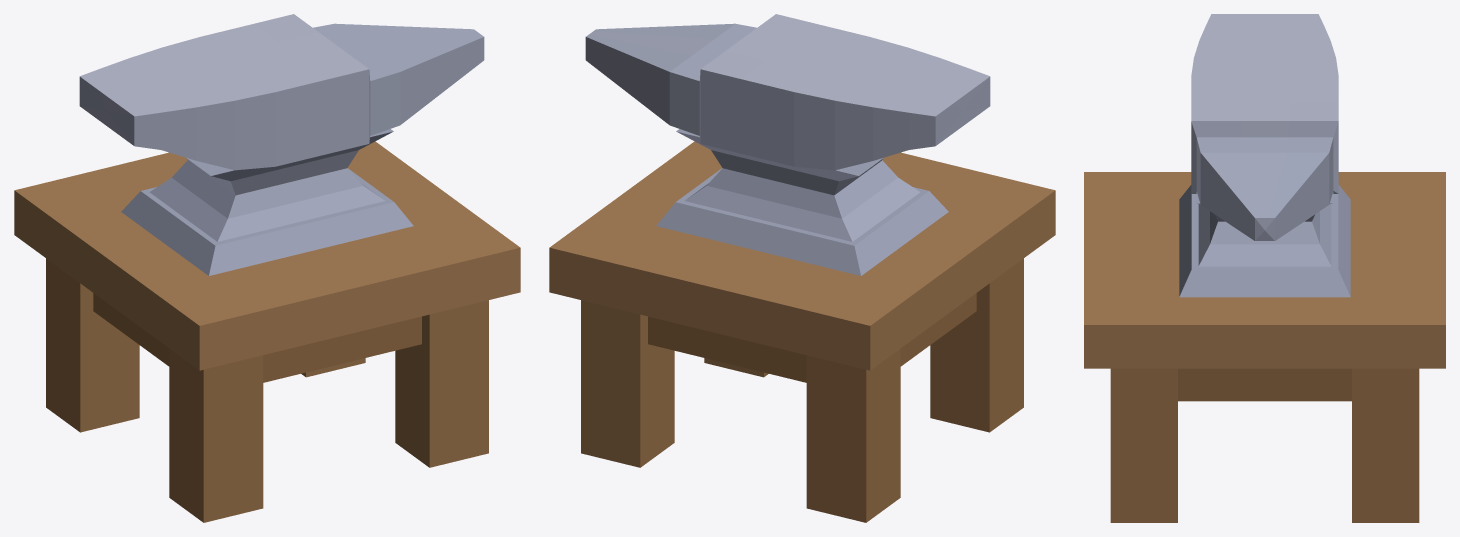
The model's file is Workbench_Anvil.glb.
3 views of the same model, side by side, from view 1: azimuth 30°, elevation 25°; view 2: azimuth 150°, elevation 25°; view 3: azimuth 270°, elevation 25° (orthographic). The views are drawn at different scales.
Parts seen in each view (by area): view 1: Workbench_Anvil_Merged; view 2: Workbench_Anvil_Merged; view 3: Workbench_Anvil_Merged.
Part boxes in pixels (<box>): Workbench_Anvil_Merged: <box>14,14,520,522</box>; Workbench_Anvil_Merged: <box>549,14,1055,522</box>; Workbench_Anvil_Merged: <box>1084,14,1445,522</box>.
Bounding box in the file's own units: 0.3145 × 0.3 × 0.27.
